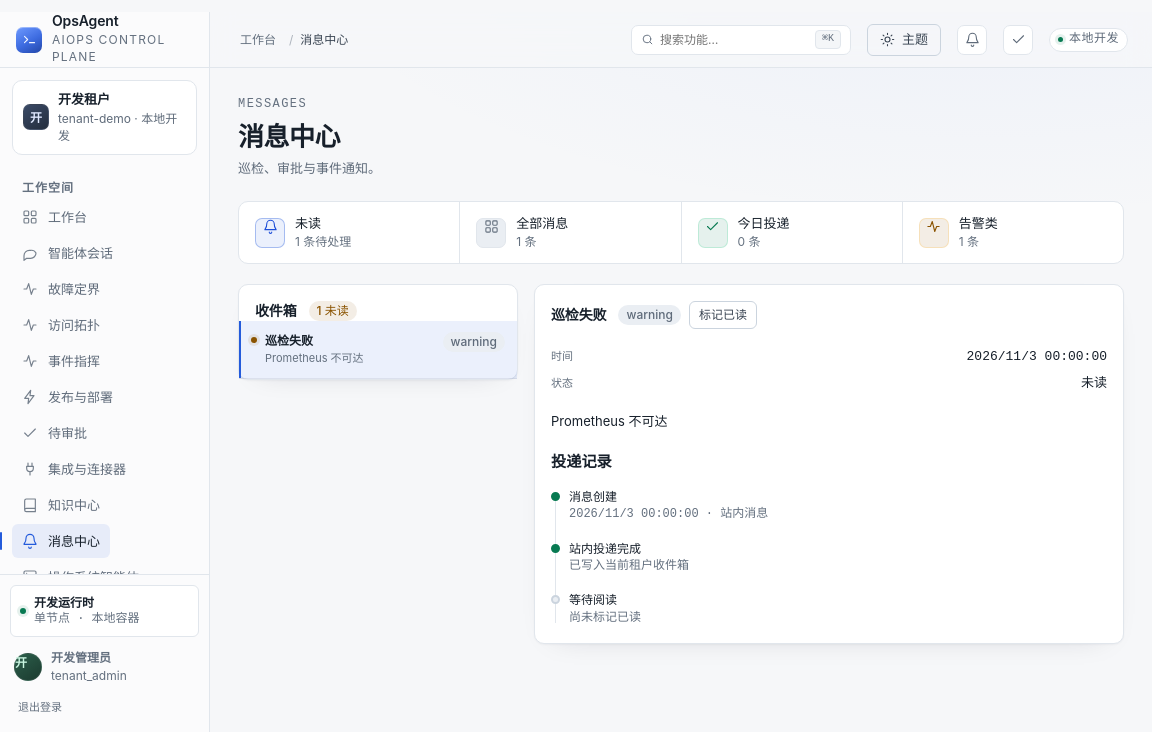
Test: Messages › lists messages and marks one read
Expected: the text "巡检失败" is shown, [265, 333, 313, 348]
Click the button "标记已读" at (723, 315), box [689, 301, 757, 329]
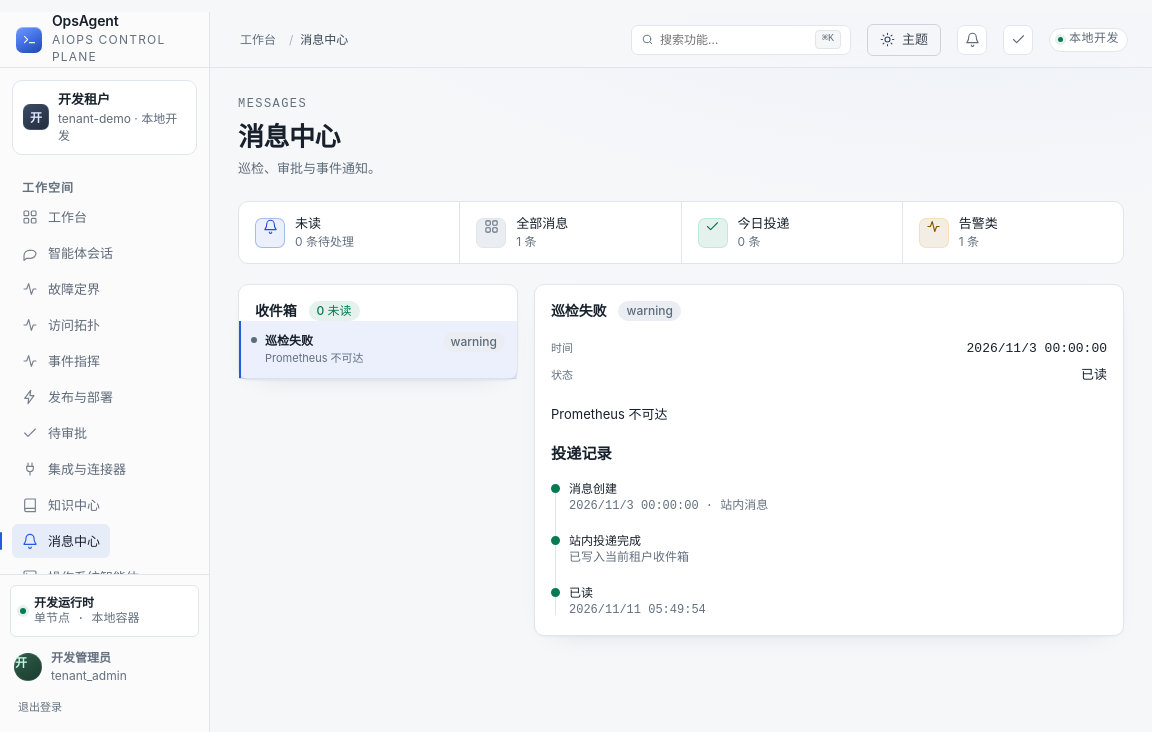
Now the text "已读" next to "状态" is shown, box [1081, 366, 1107, 382]
